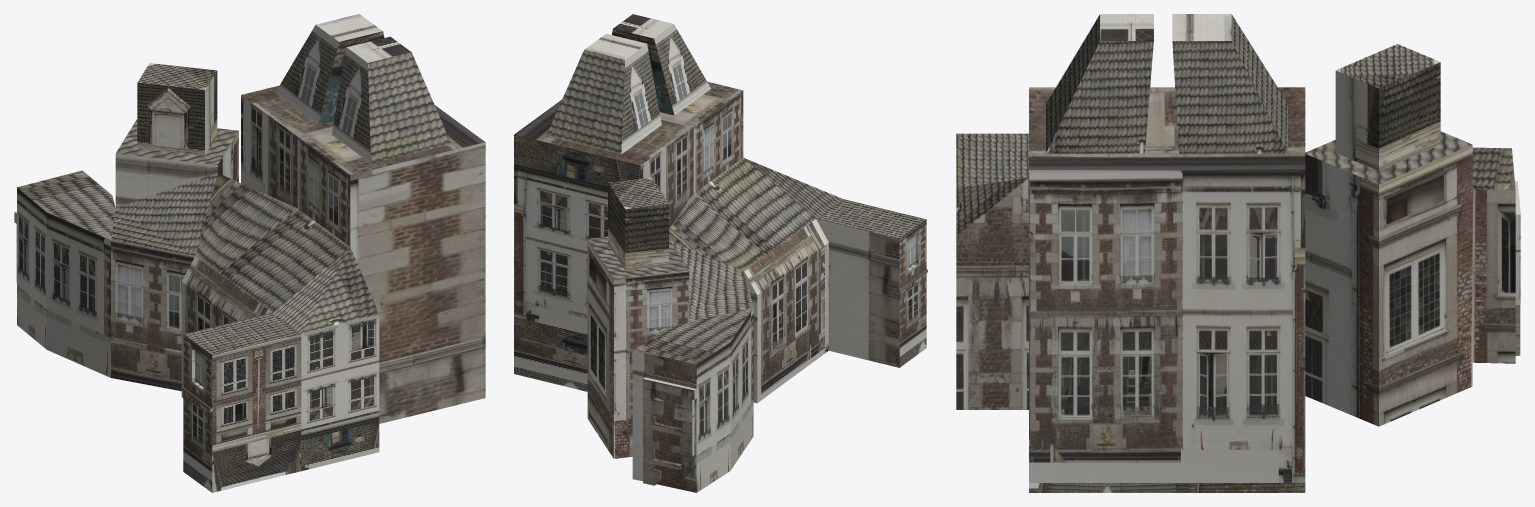
Rendered from BuildingCity_03.fbx.
3 renders of one model, left to right at view 1: azimuth 30°, elevation 25°; view 2: azimuth 150°, elevation 25°; view 3: azimuth 270°, elevation 25°, orthographic. The views are drawn at different scales.
Visible parts, largest first — view 1: Cube.006; view 2: Cube.006; view 3: Cube.006.
Boxes of the visible parts, x1,y1,x2,y2 form: Cube.006: (14, 14, 485, 492); Cube.006: (514, 14, 927, 492); Cube.006: (956, 14, 1520, 492).
Bounding box in the file's own units: 2161 × 2287 × 2760.
